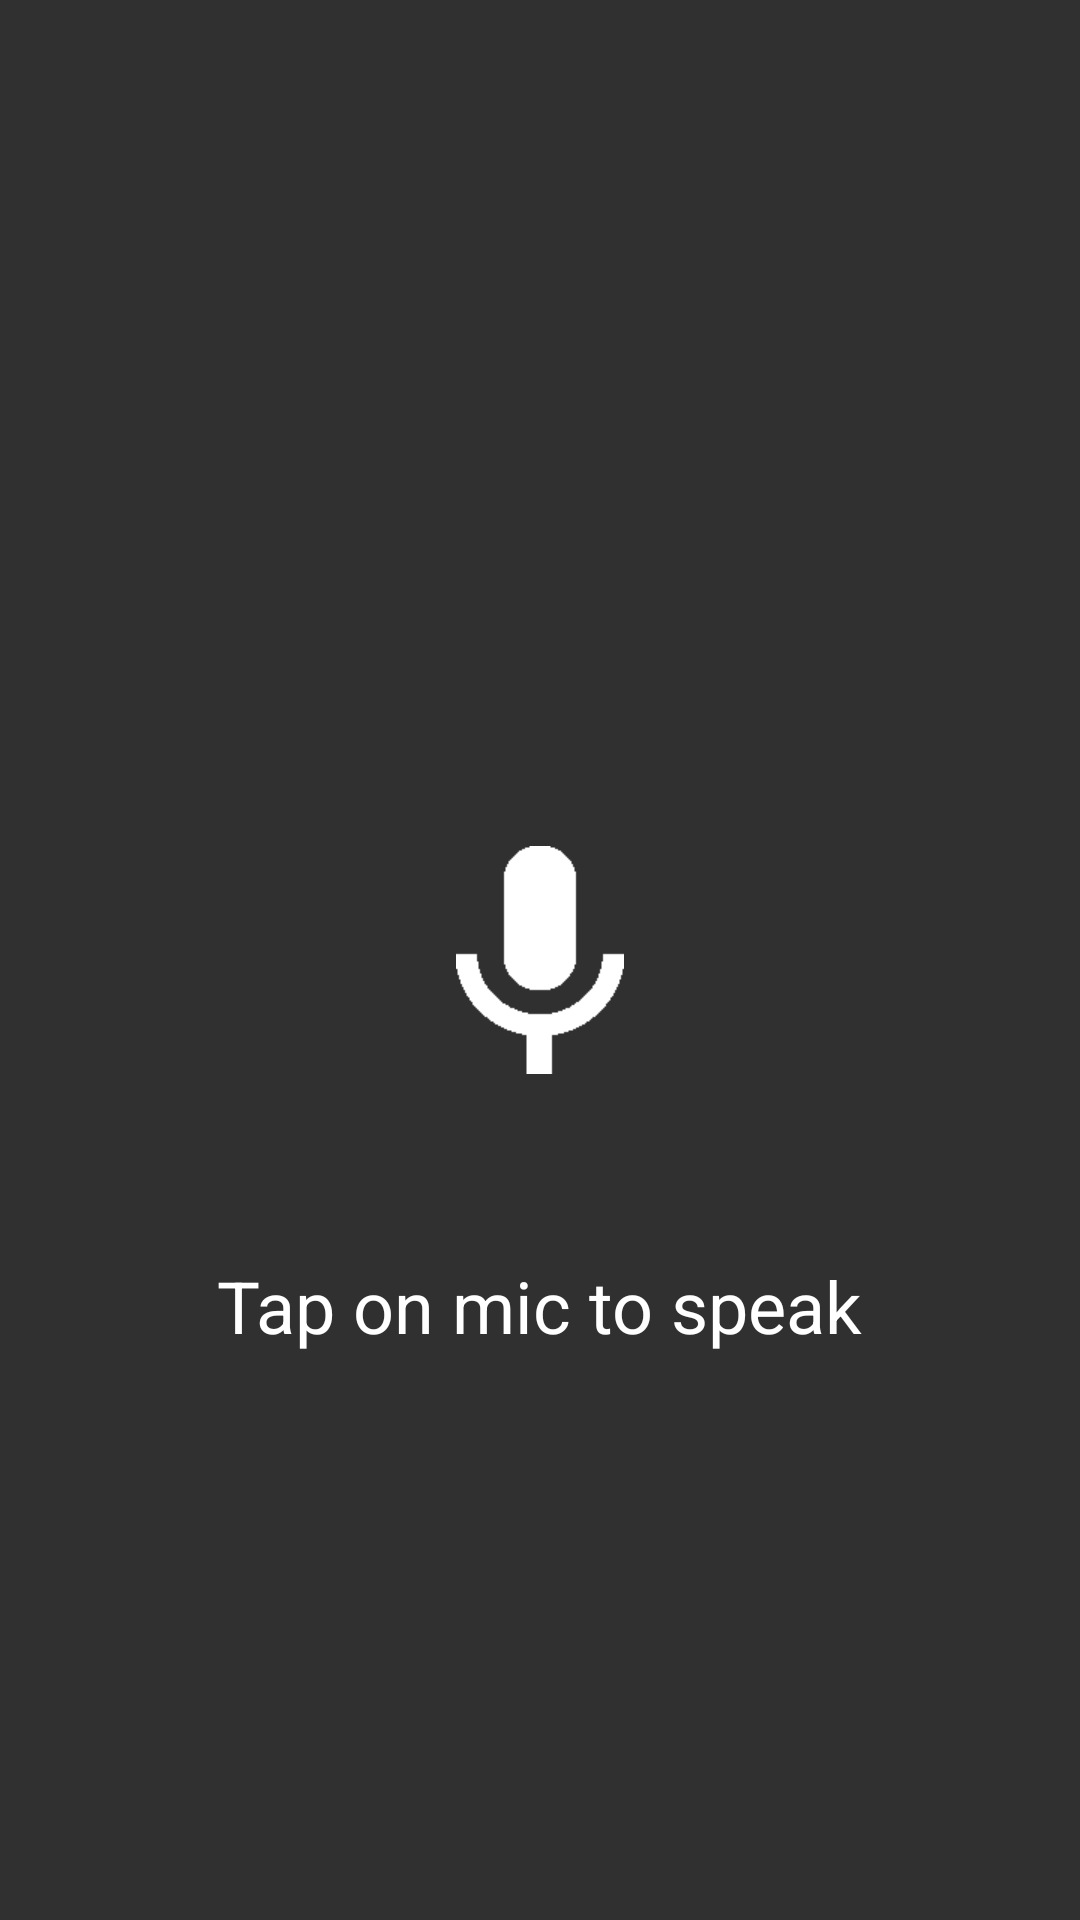

Icon click points for this 1080*1920 phone screenshot, format [x,y]:
speak now mic: [540,960]
